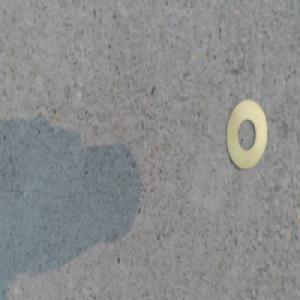Washer: (223, 99, 266, 173)
